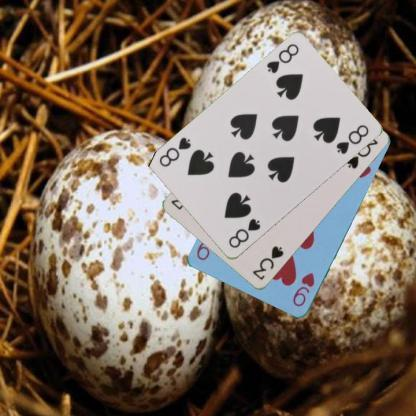3s: (250, 244, 286, 282)
8s: (226, 216, 262, 250), (264, 41, 300, 75)
9h: (290, 270, 316, 308)
